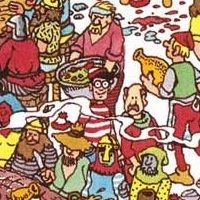waldo: (88, 65, 109, 101)
